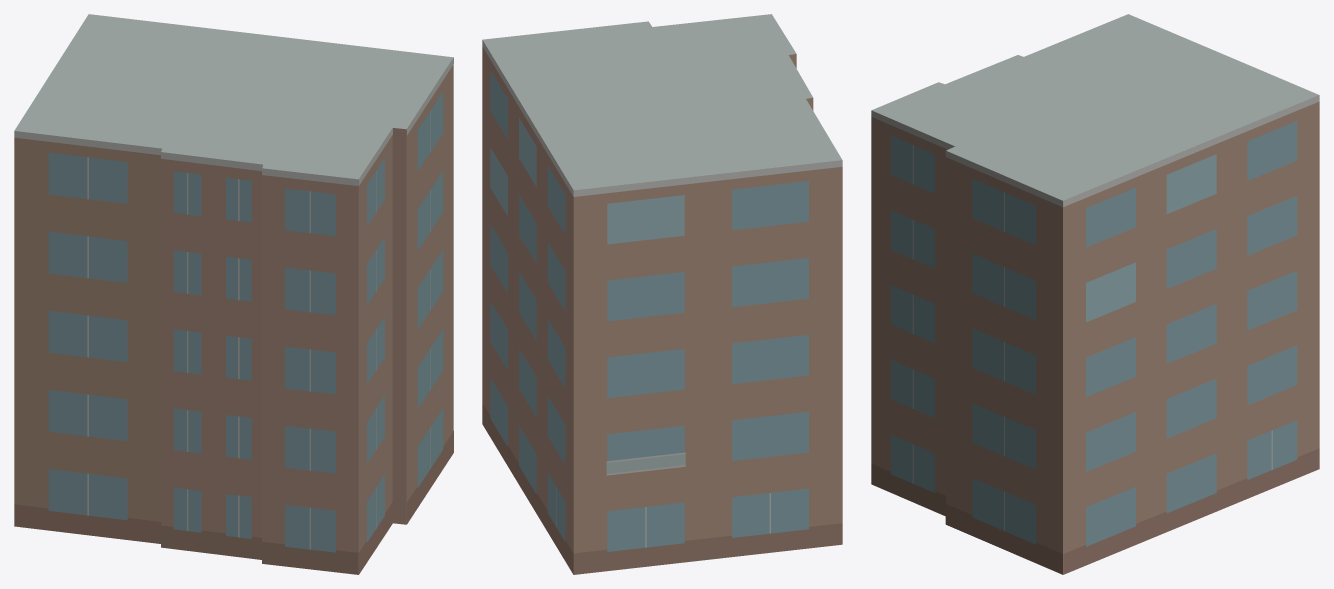
The model's file is survey-upis-32947274.glb.
The picture shows the model from 3 angles, left to right: view 1: azimuth 30°, elevation 25°; view 2: azimuth 150°, elevation 25°; view 3: azimuth 270°, elevation 25°; orthographic projection. The views are drawn at different scales.
Parts seen in each view (by area): view 1: survey-upis-32947274.tmp; view 2: survey-upis-32947274.tmp; view 3: survey-upis-32947274.tmp.
Boxes of the visible parts, x1=… form: survey-upis-32947274.tmp: x1=14, y1=14, x2=453, y2=574; survey-upis-32947274.tmp: x1=482, y1=14, x2=842, y2=574; survey-upis-32947274.tmp: x1=871, y1=14, x2=1319, y2=574.
Size of the model in its own units: 15.33 by 14.3 by 15.54.
